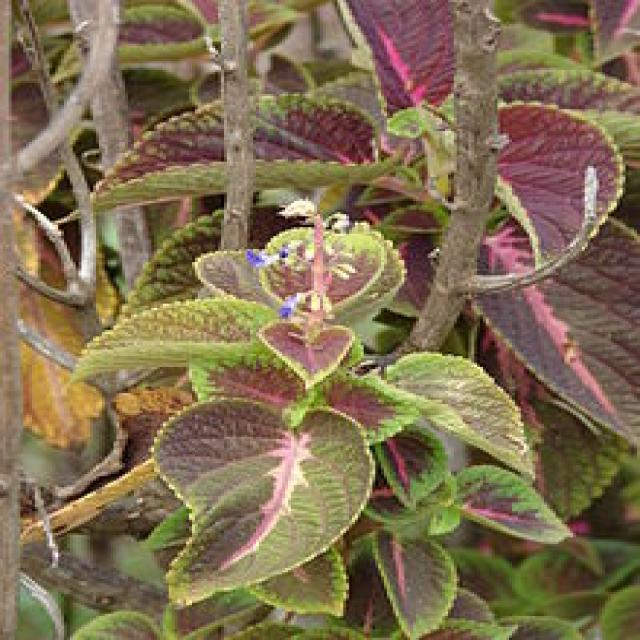Coleus: (44, 212, 579, 609)
